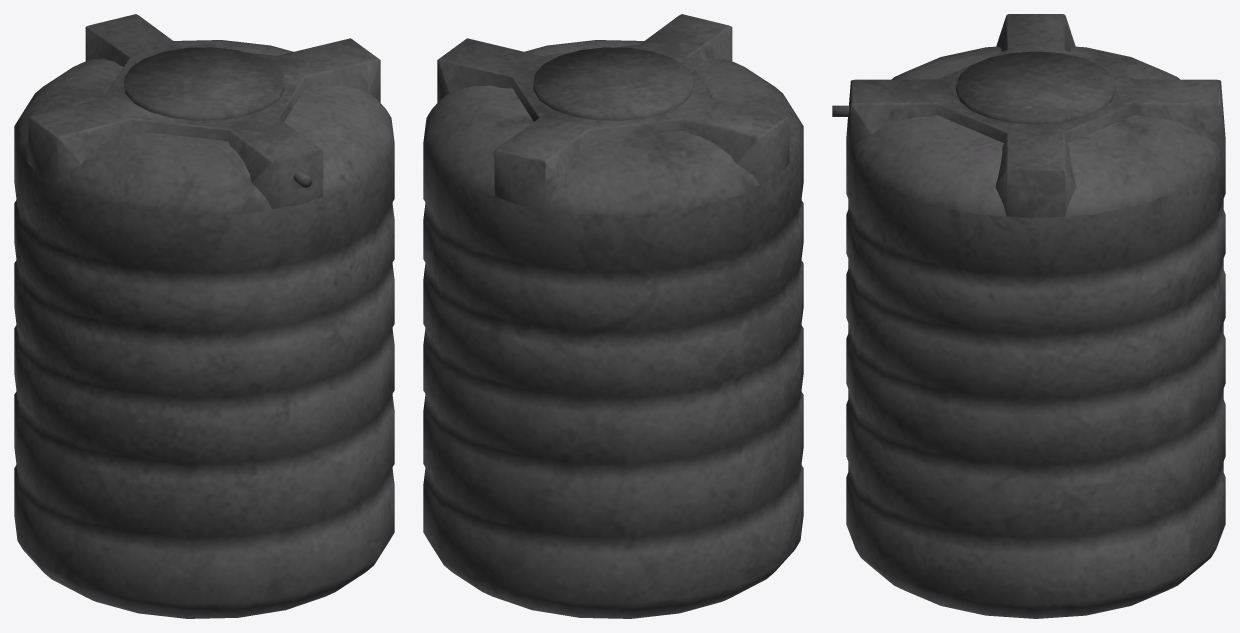
Rendered from SM_FAR_MilkBarrel_01.fbx.
The picture shows the model from 3 angles, left to right: view 1: azimuth 30°, elevation 25°; view 2: azimuth 150°, elevation 25°; view 3: azimuth 270°, elevation 25°; orthographic projection.
Visible parts, largest first — view 1: SM_FAR_MilkBarrel_01.mo; view 2: SM_FAR_MilkBarrel_01.mo; view 3: SM_FAR_MilkBarrel_01.mo.
Part boxes in pixels (x1=…): SM_FAR_MilkBarrel_01.mo: x1=14, y1=14, x2=394, y2=618; SM_FAR_MilkBarrel_01.mo: x1=423, y1=14, x2=803, y2=618; SM_FAR_MilkBarrel_01.mo: x1=832, y1=14, x2=1225, y2=618.
Bounding box in the file's own units: 97.21 × 134 × 101.
